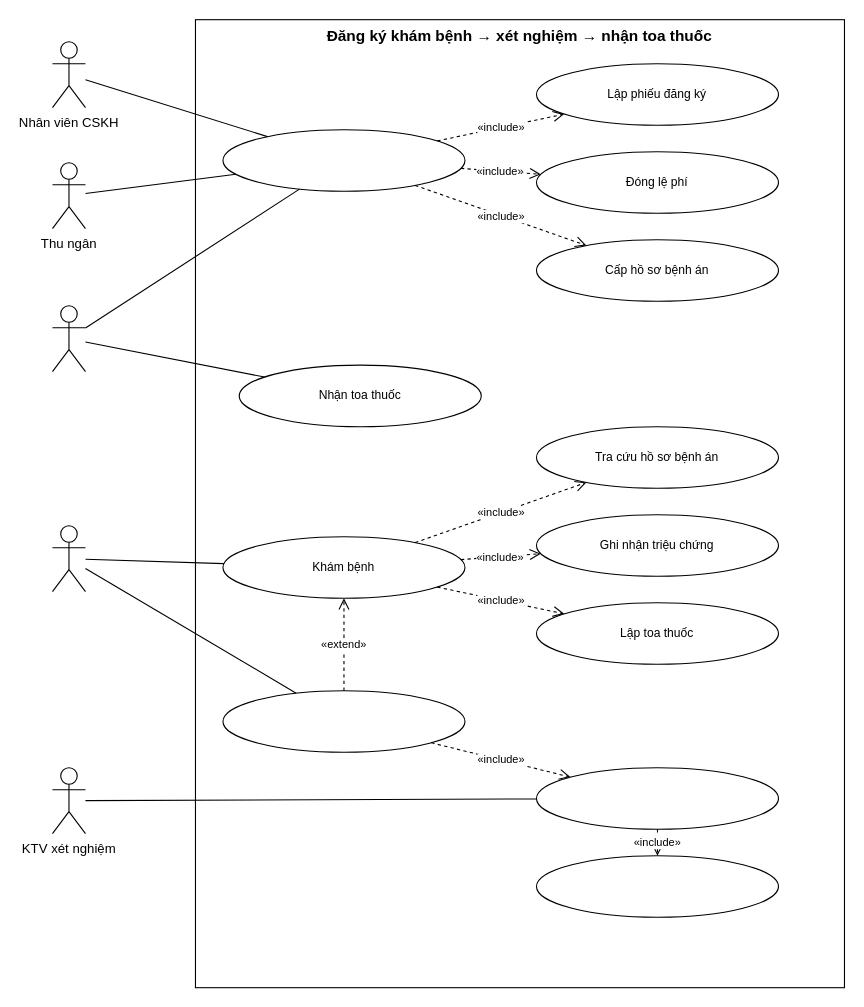
The diagram is 864 pixels wide and 1007 high, and some of its shapes have lost their labels. The shapes that lost their labels are listed below. From the top down, each one's box as (x1, y1, x2, y2) in pixels, then its label:
(222, 129, 465, 191): Đăng ký khám bệnh
(51, 305, 85, 372): Bệnh nhân
(51, 525, 85, 592): Bác sĩ
(222, 690, 465, 752): Chỉ định xét nghiệm
(535, 767, 778, 829): Thực hiện xét nghiệm
(535, 855, 778, 917): Nhập kết quả xét nghiệm
